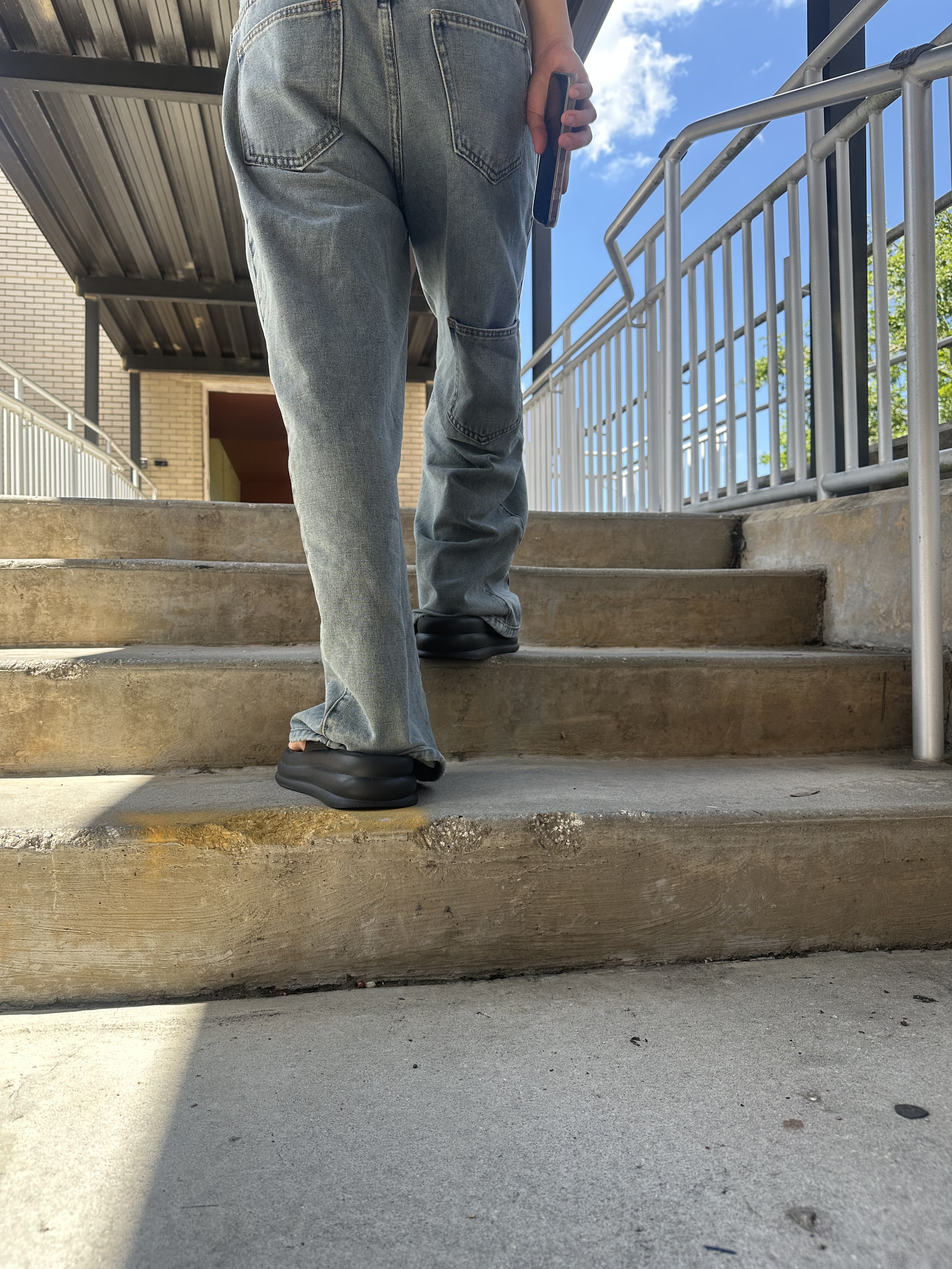stairs: (4, 494, 952, 1012)
